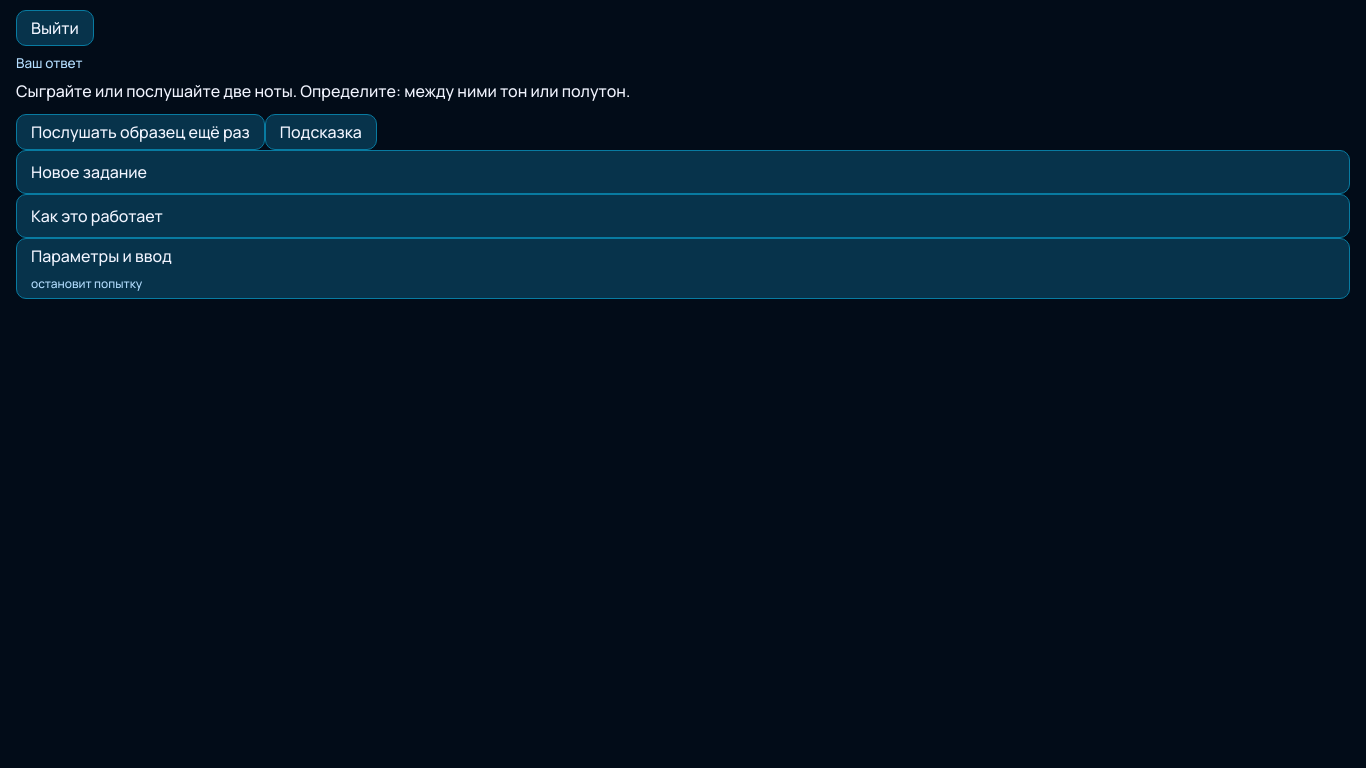
Test: references, blocking windows and compact results › opens generic theory without a hint command or blocking musical input
Click the button "Как это работает" at (97, 216), box [16,194,1350,238]
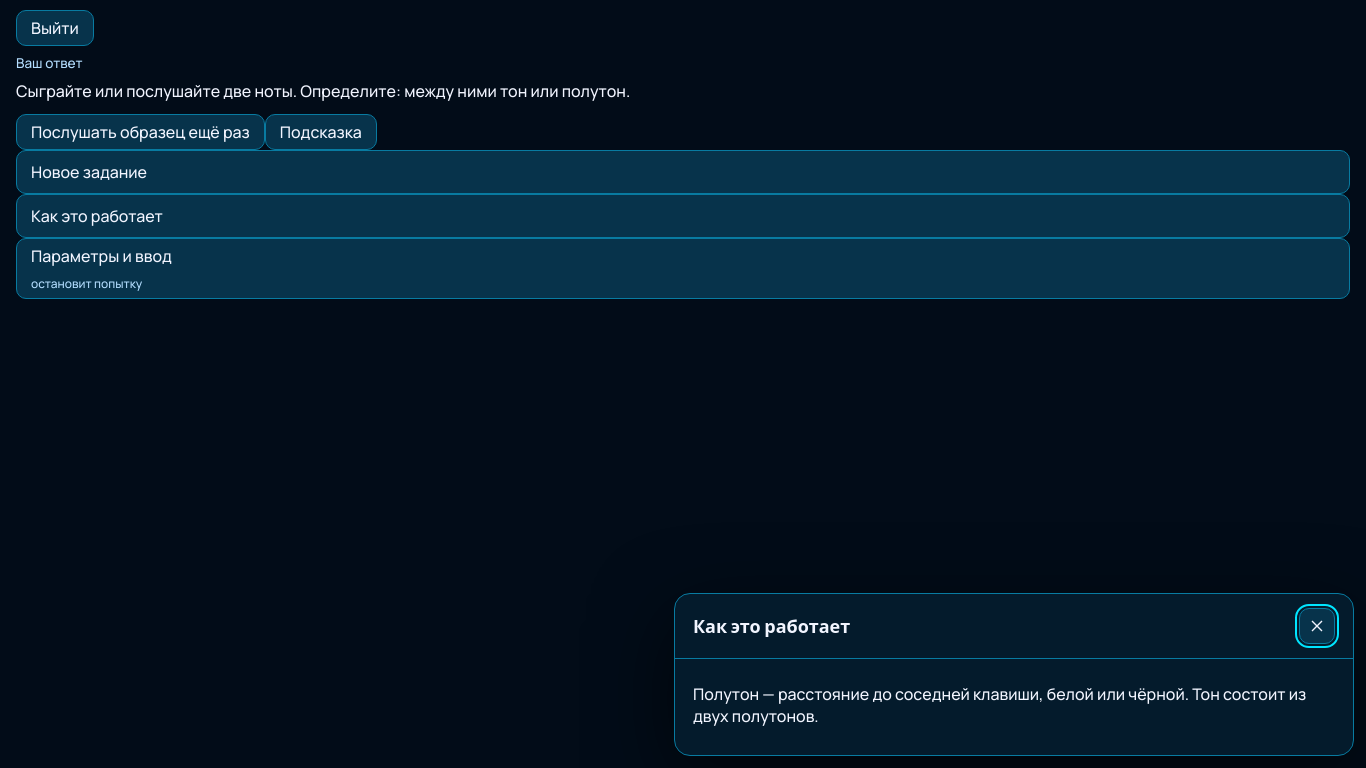
Expected: the dialog with class "lesson-theory-panel" shows "Тон состоит из двух полутонов", [693,683,1306,727]
